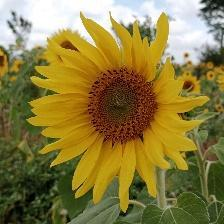sunflower: (27, 9, 212, 215)
